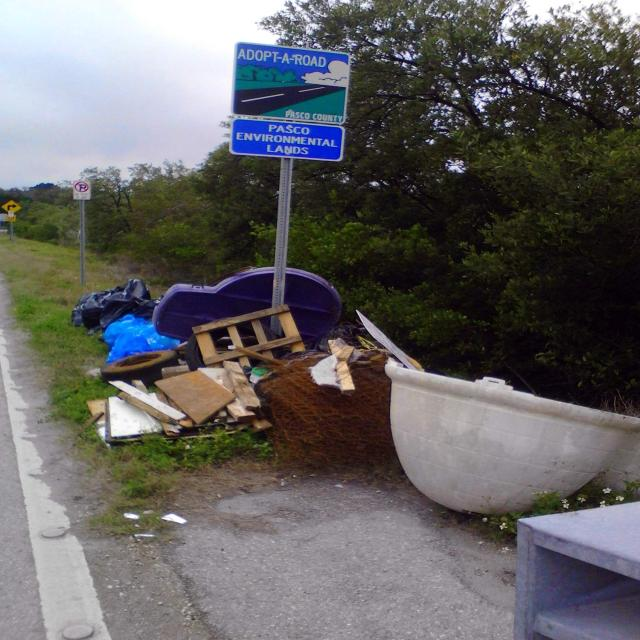garbage: (81, 266, 396, 477)
